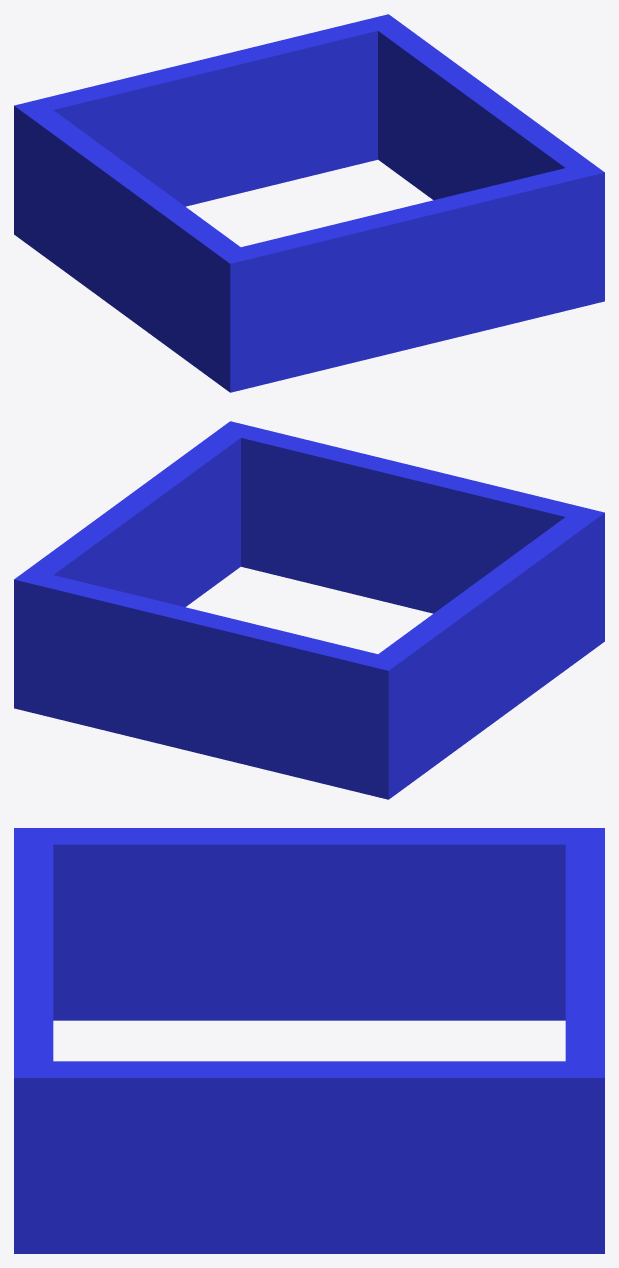
Rendered from pointer_blue.obj.
3 renders of one model, top to bottom at view 1: azimuth 30°, elevation 25°; view 2: azimuth 150°, elevation 25°; view 3: azimuth 270°, elevation 25°, orthographic. The views are drawn at different scales.
Parts seen in each view (by area): view 1: Cube.003; view 2: Cube.003; view 3: Cube.003.
Part boxes in pixels (x1=…): Cube.003: x1=14, y1=14, x2=604, y2=392; Cube.003: x1=14, y1=421, x2=604, y2=799; Cube.003: x1=14, y1=828, x2=604, y2=1253.
Size of the model in its own units: 1.83 by 0.6 by 1.83.
Materials: 1 (1 with a texture image).
